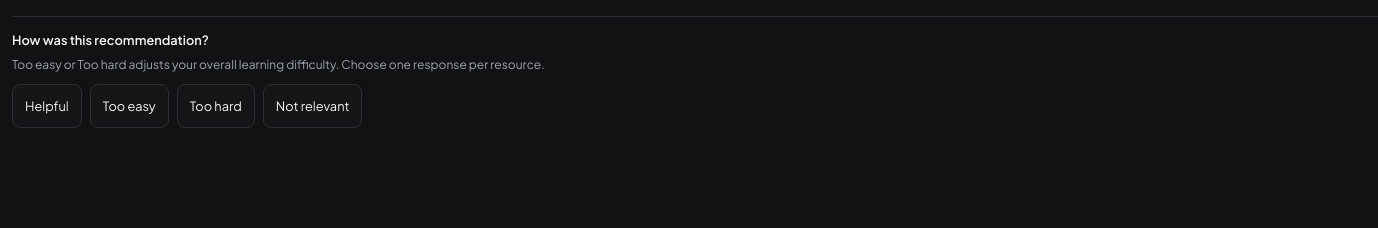
Test: Recommendation feedback eligibility and controls › links Helpful to the actual persisted ID
What coordinates should you click on to do the following:
click the button "Helpful"
I would click on:
 (47, 106)
Its box is [12,84,82,128].
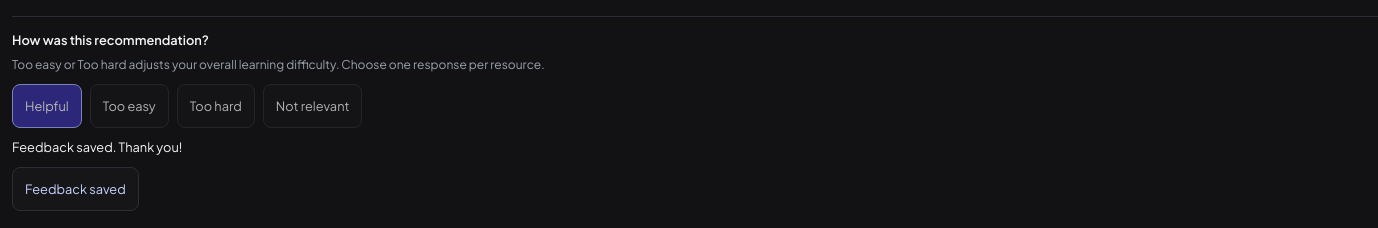
Now the text "Feedback saved. Thank you!" is shown, box [12,139,182,155]
Now the button "Helpful" is disabled, box [12,84,82,128]
Now the button "Too hard" is disabled, box [177,84,255,128]
